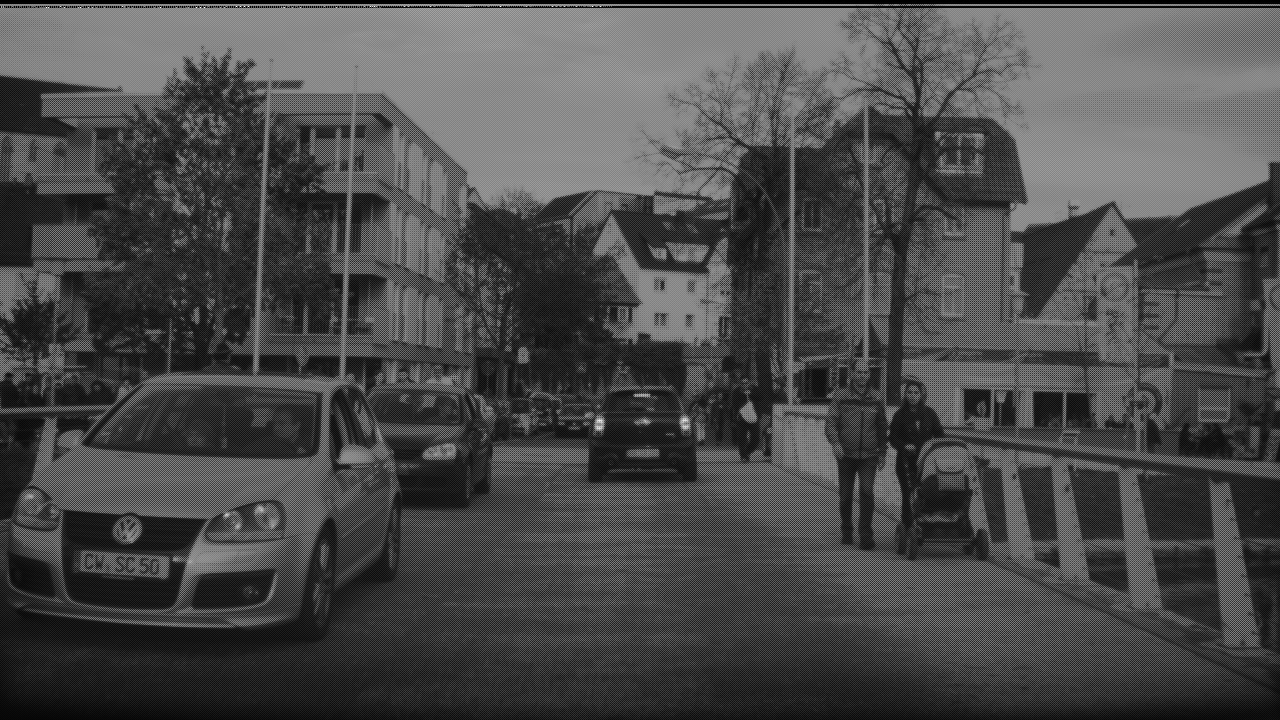pole: (1007, 50, 1029, 364), (921, 54, 942, 370), (485, 86, 495, 396), (409, 87, 419, 350)
